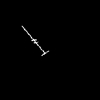treble_crochet: (22, 26, 44, 54)
